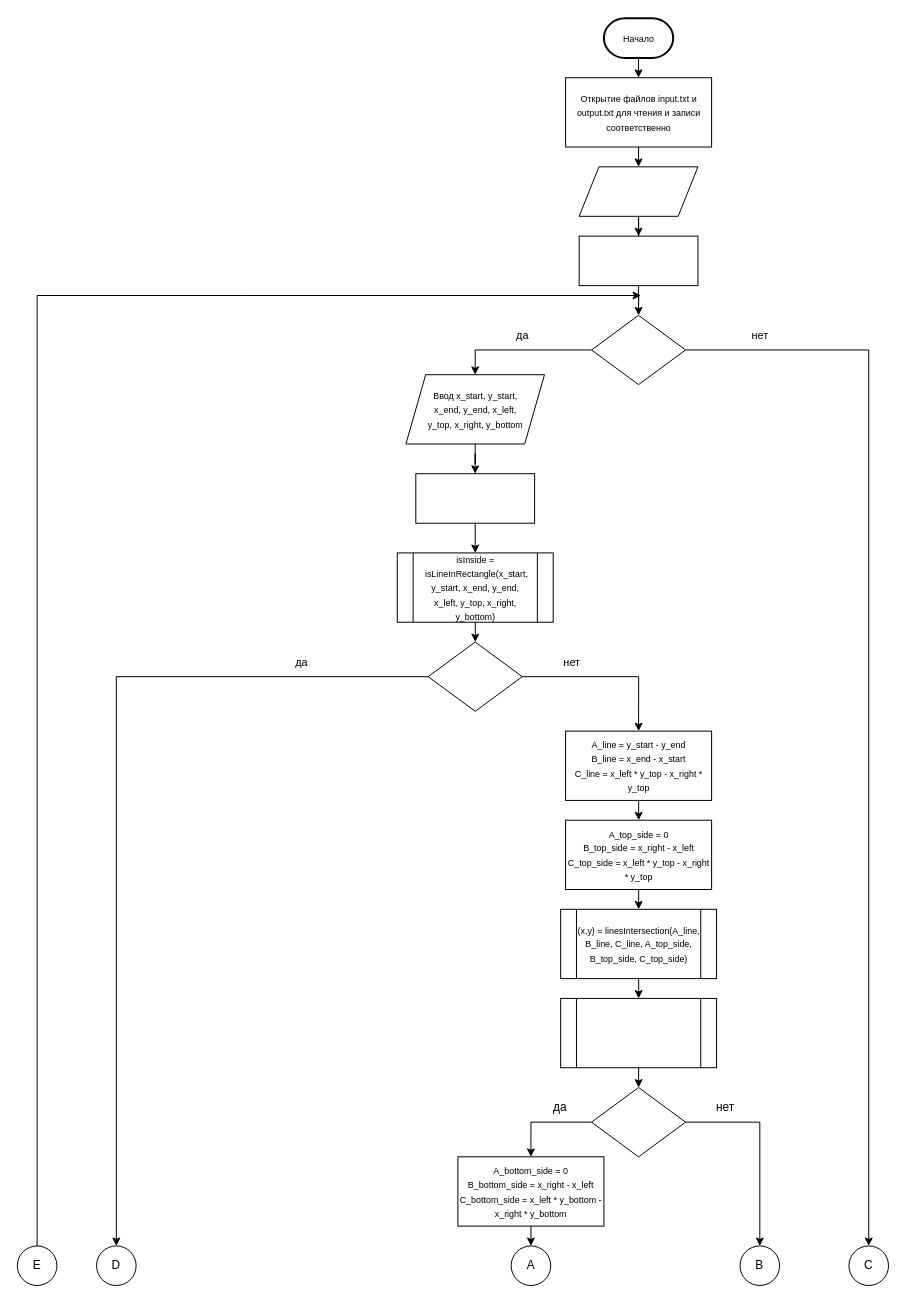
The diagram is 906 pixels wide and 1303 high, and some of its shapes have lost their labels. The box of each missing label's shape, as (x1, y1, x2, y2) in pixels:
i < N: (591, 314, 686, 385)
i = 0: (578, 235, 698, 286)
intersection = belongToPiece(x, x_left, x_right, y, y_start, y_end): (560, 997, 717, 1068)
intersection = False: (415, 473, 535, 523)
isInside: (427, 641, 522, 711)
not intersection: (591, 1087, 686, 1157)
Ввод N: (578, 166, 698, 216)
